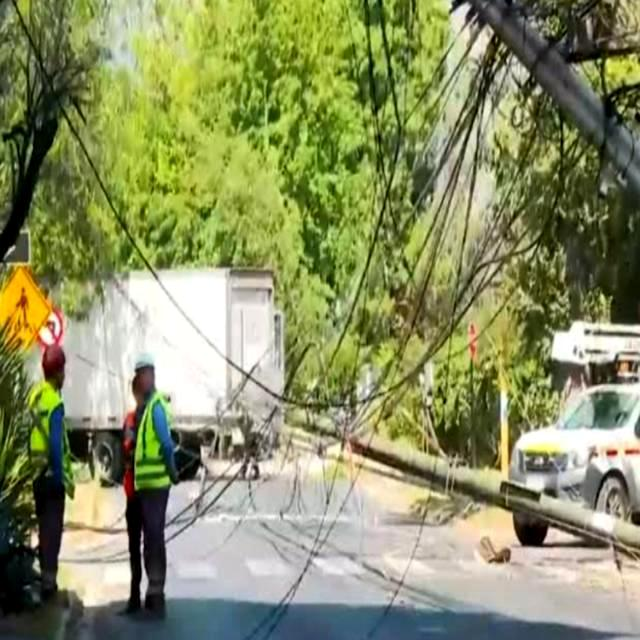Broken Pole: (280, 392, 635, 557)
